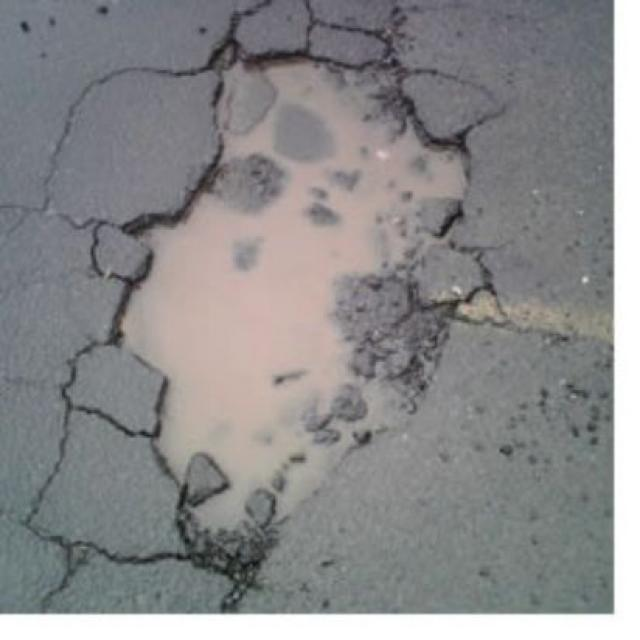pothole: (82, 31, 504, 600)
